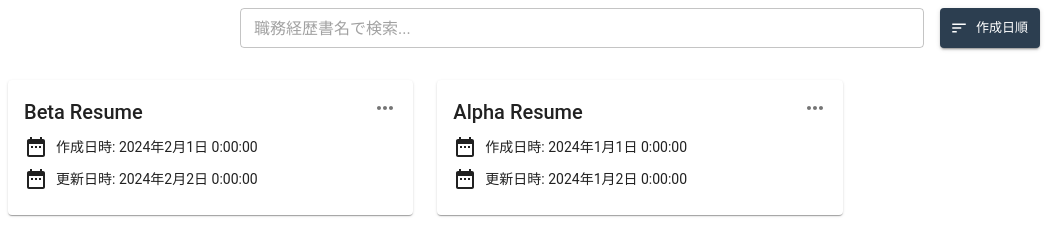
Test: resume list › 並び替えメニューを選ばずに閉じたときは閉じる前の並び順のままであること
This screenshot has width=1063, height=234.
Expected: the heading "Alpha Resume" is shown, [453,100,583,124]
Click the button "作成日順" at {"x": 990, "y": 28}, box [940,8,1040,48]
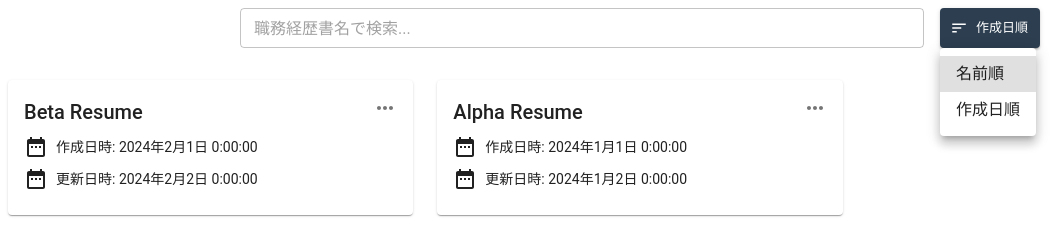
Click the menu item "名前順" at {"x": 988, "y": 74}, box [940,56,1036,92]
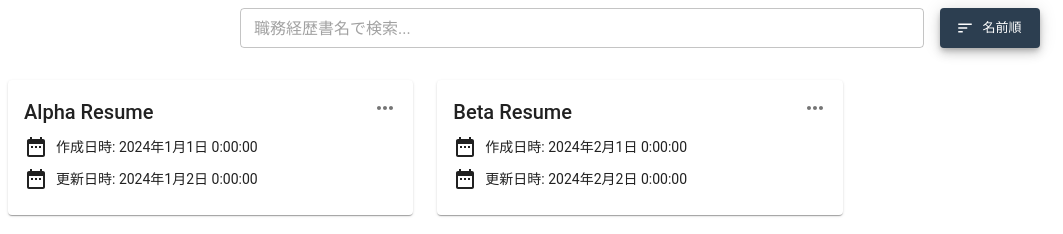
Click the button "名前順" at {"x": 990, "y": 28}, box [940,8,1040,48]
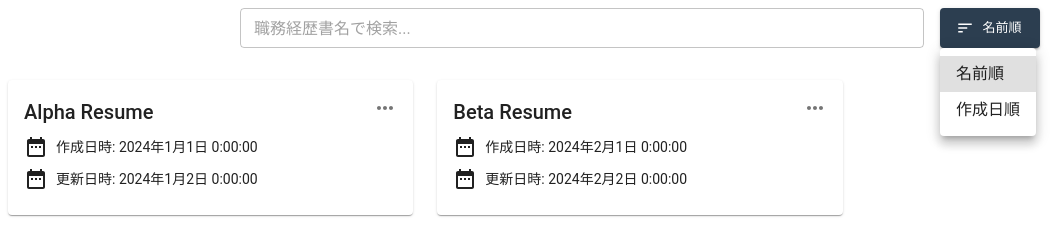
Expected: the menu is shown, [940,48,1036,136]
Press Escape
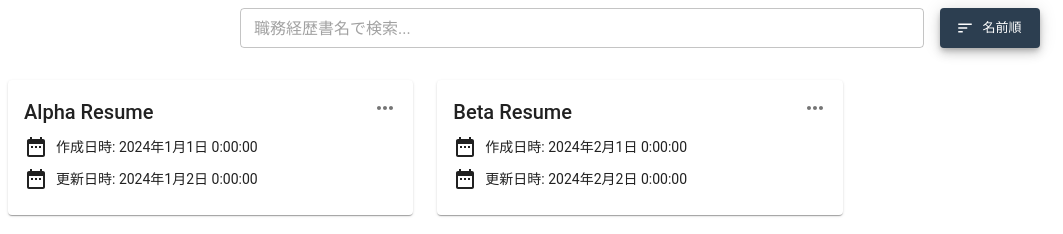
Expected: the button "名前順" is shown, [940,8,1040,48]
Expected: the menu is gone
